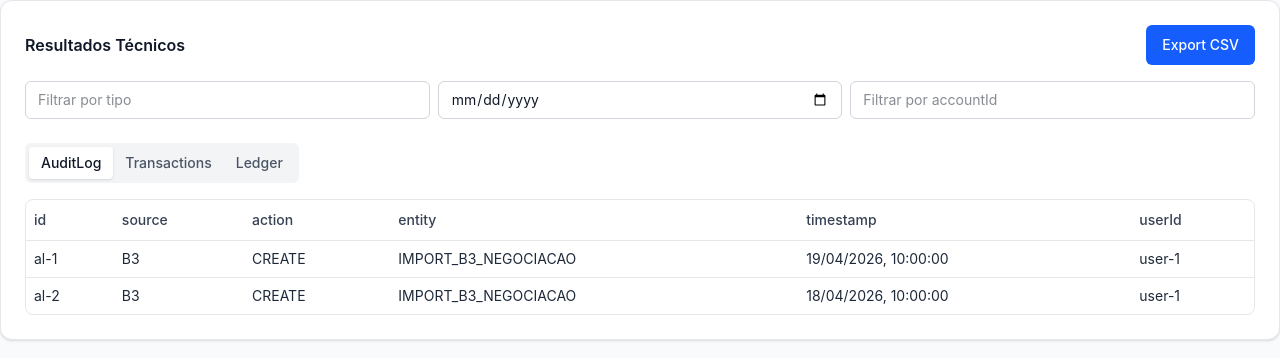
Test: ResultsTable › filtra por data na aba AuditLog
Type "2026-04-18" into the date field named "Filtrar por data". click: (640, 100)
box: [438,81,842,119]
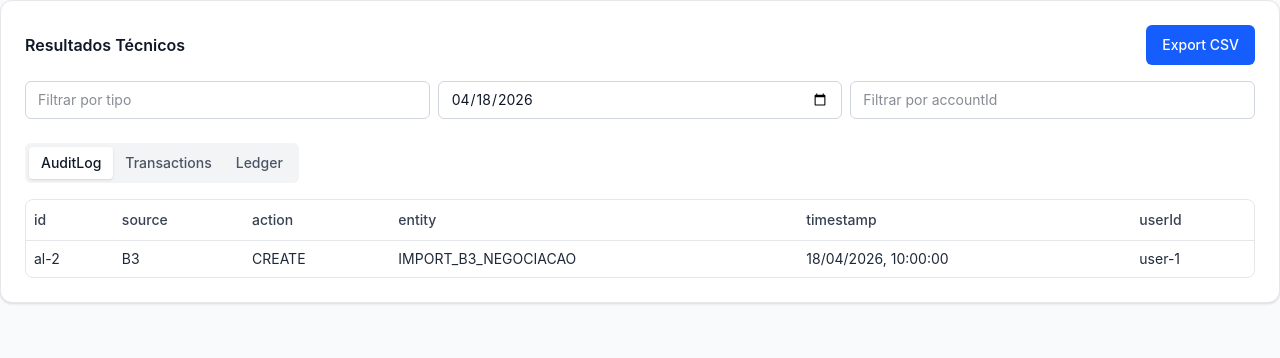
Expected: the text "al-2" is shown, [26,240,114,276]
Expected: the text "al-1" is gone
